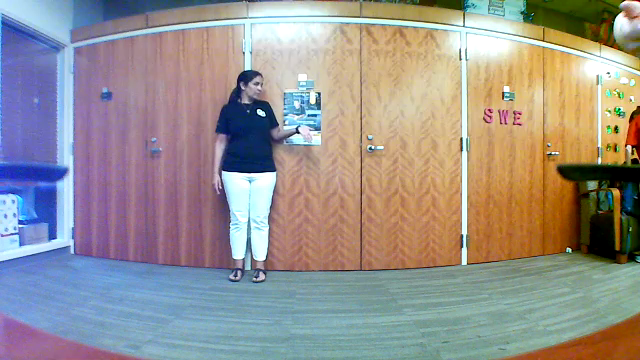land: (292, 119, 319, 150)
